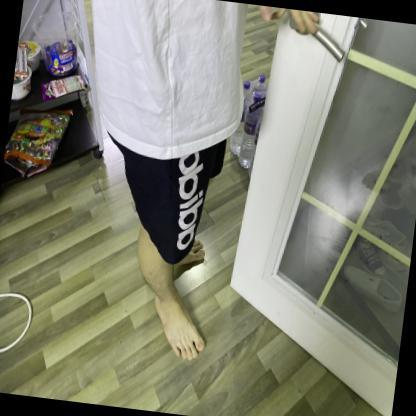no_safety-shoe: (136, 275, 216, 376), (146, 233, 209, 280)
